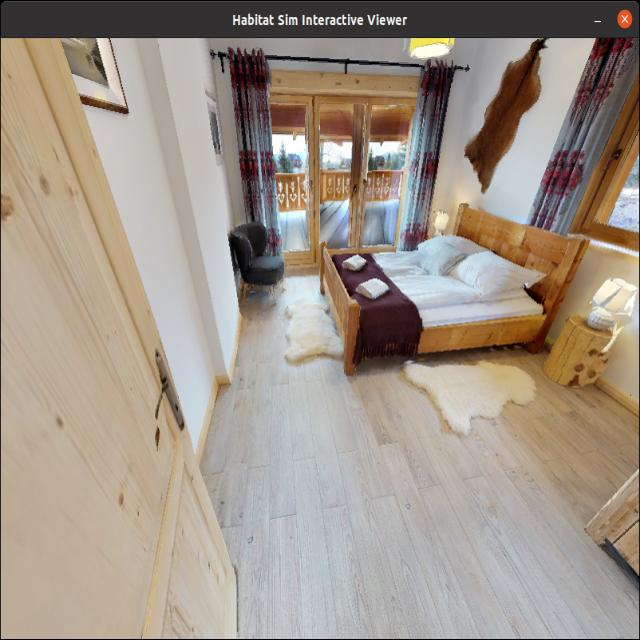bed: (307, 185, 591, 372)
